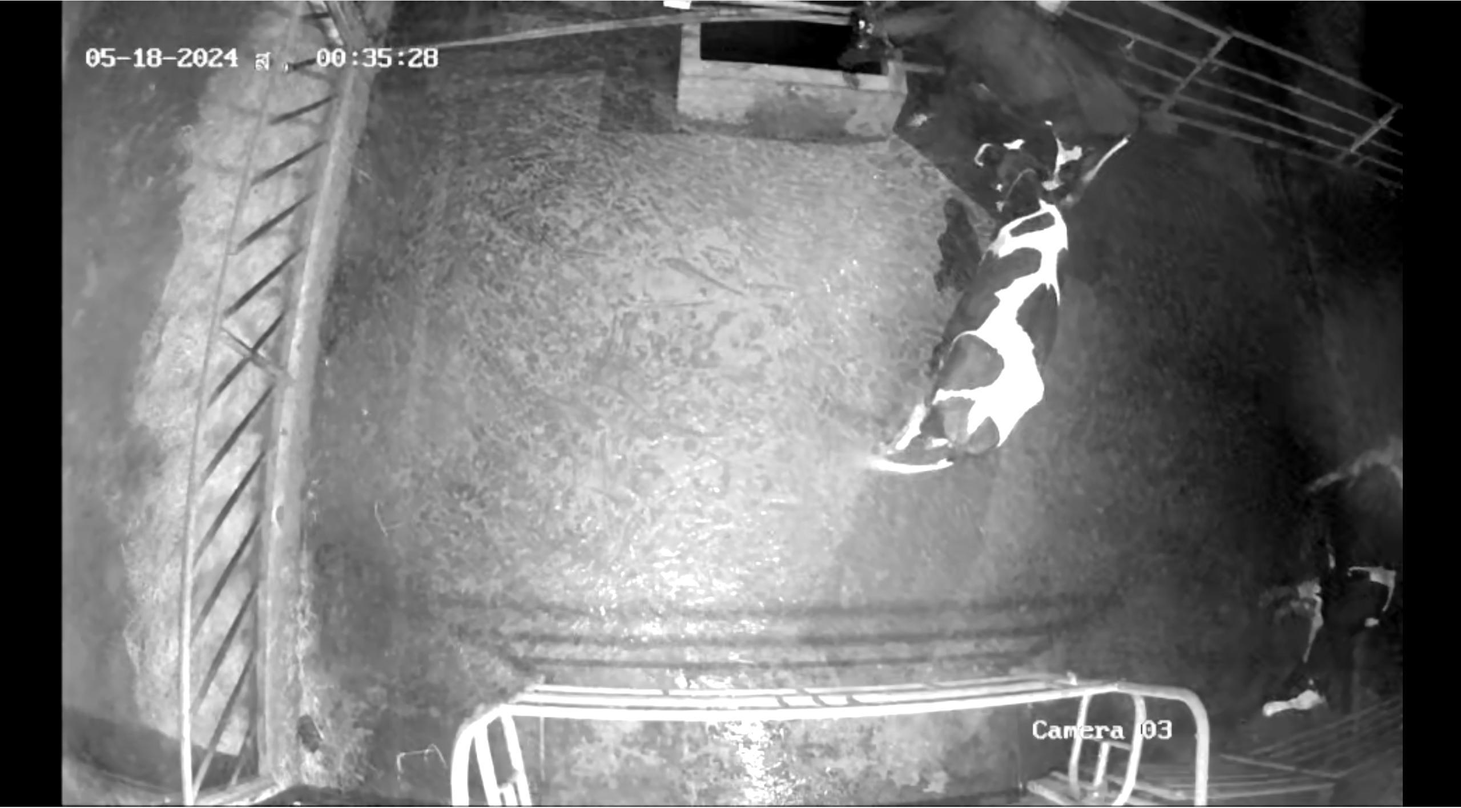drink: (814, 2, 949, 123)
stand: (875, 134, 1062, 493), (1237, 415, 1404, 733)
